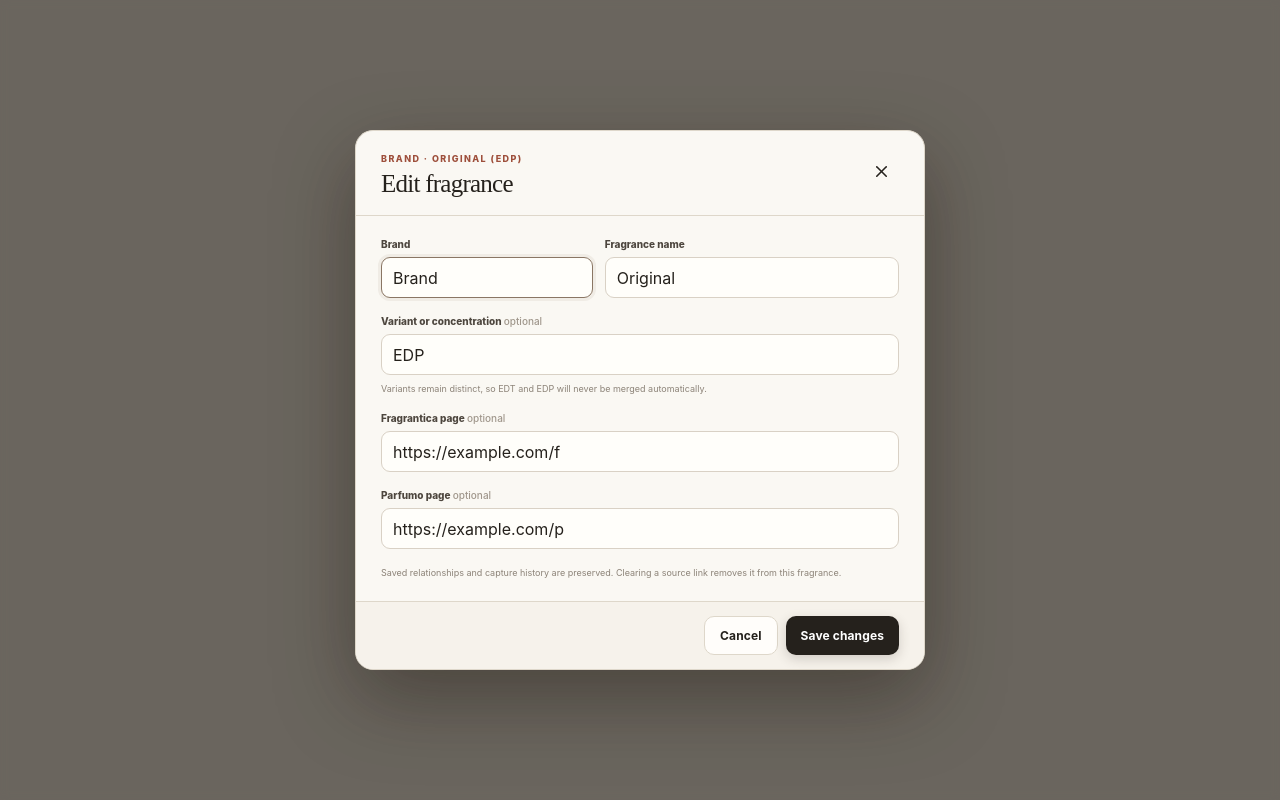
Test: edit fragrance dialog › clears stale conflict actions when details change
Replace the text in the field labelled "Fragrance name" with "Target" at (752, 278), box [605, 257, 899, 298]
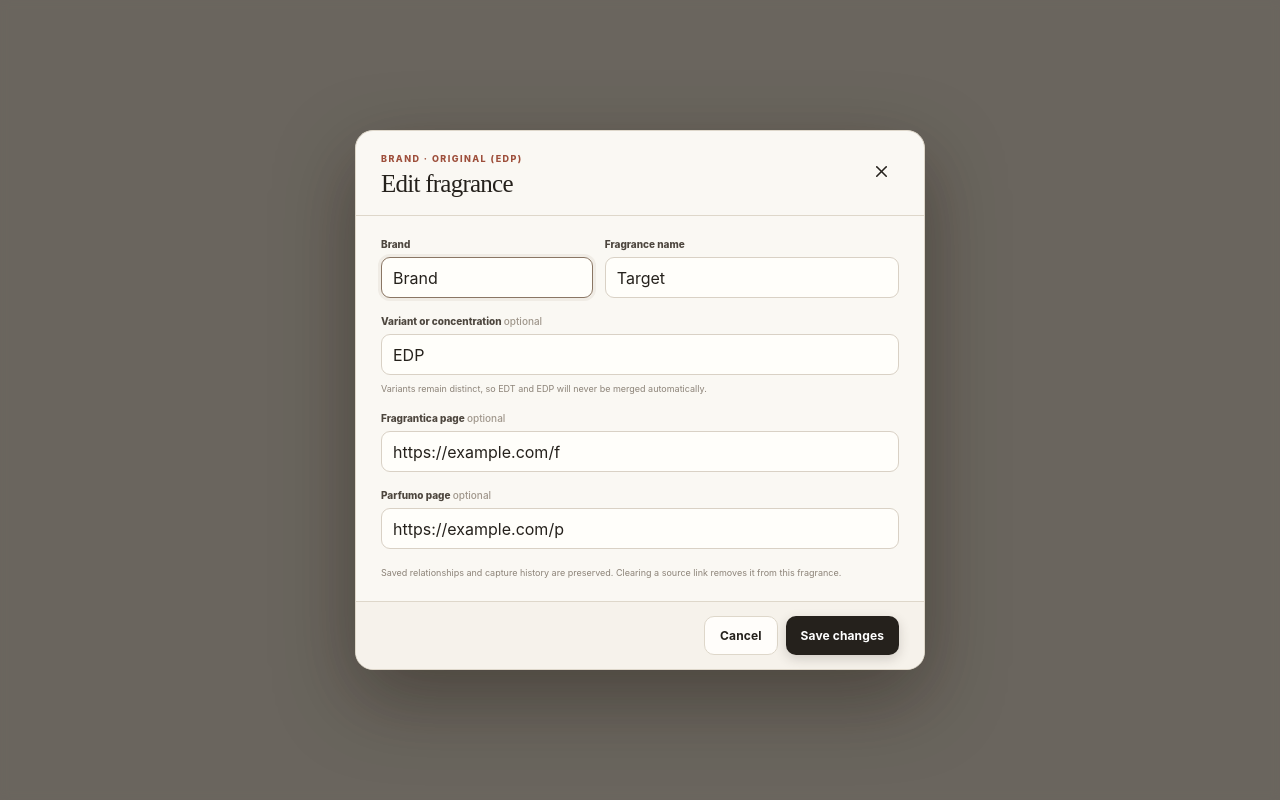
Clear the field labelled "Variant or concentration" at (640, 355), box [381, 334, 899, 375]
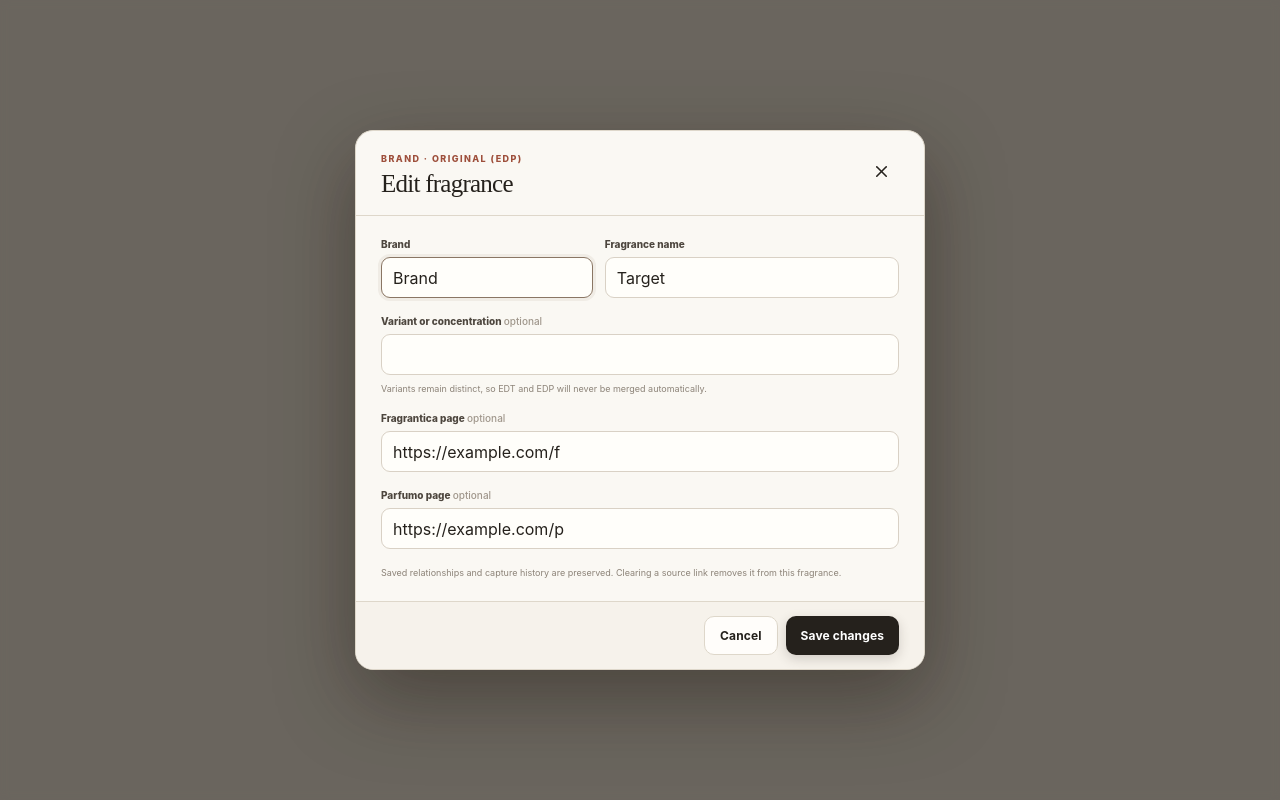
Click the button "Save changes" at (842, 636), box [786, 616, 899, 655]
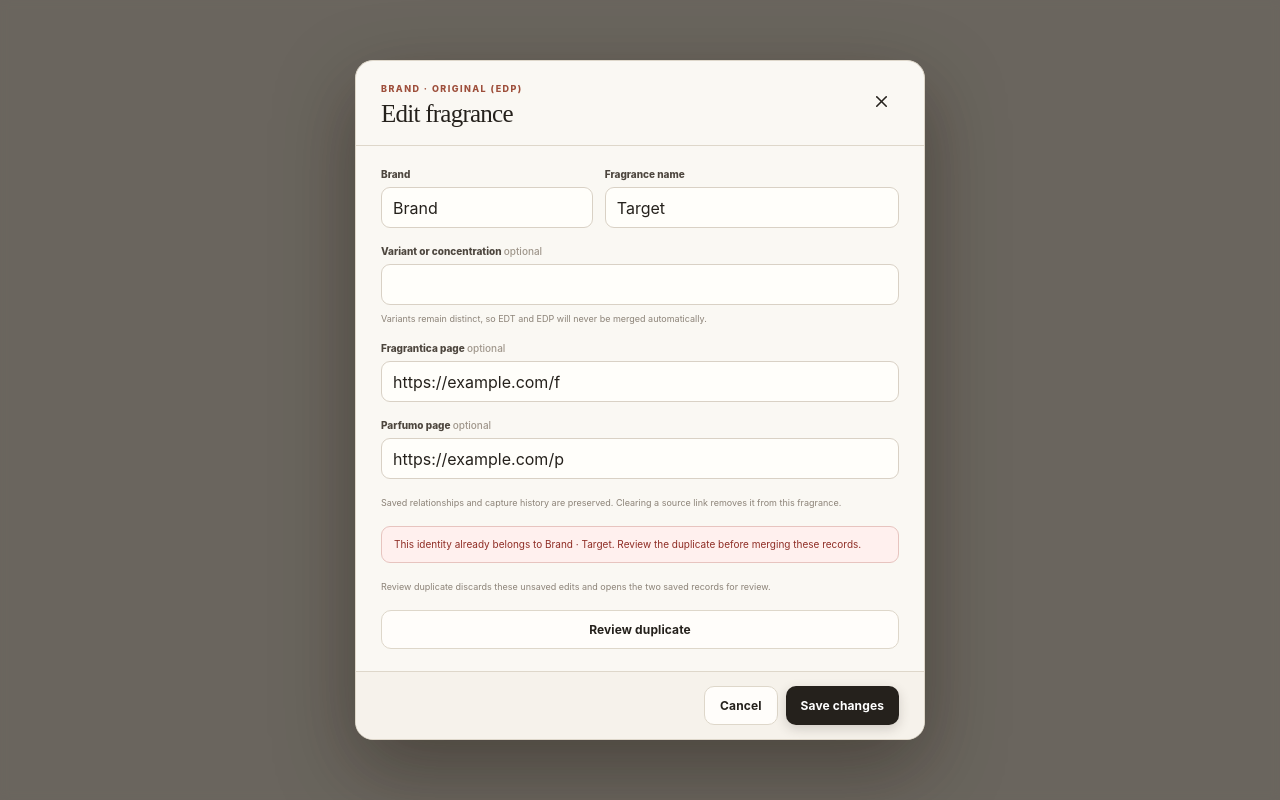
Expected: the button "Review duplicate" is shown, [381, 610, 899, 649]
Replace the text in the field labelled "Fragrance name" with "Distinct" at (752, 208), box [605, 187, 899, 228]
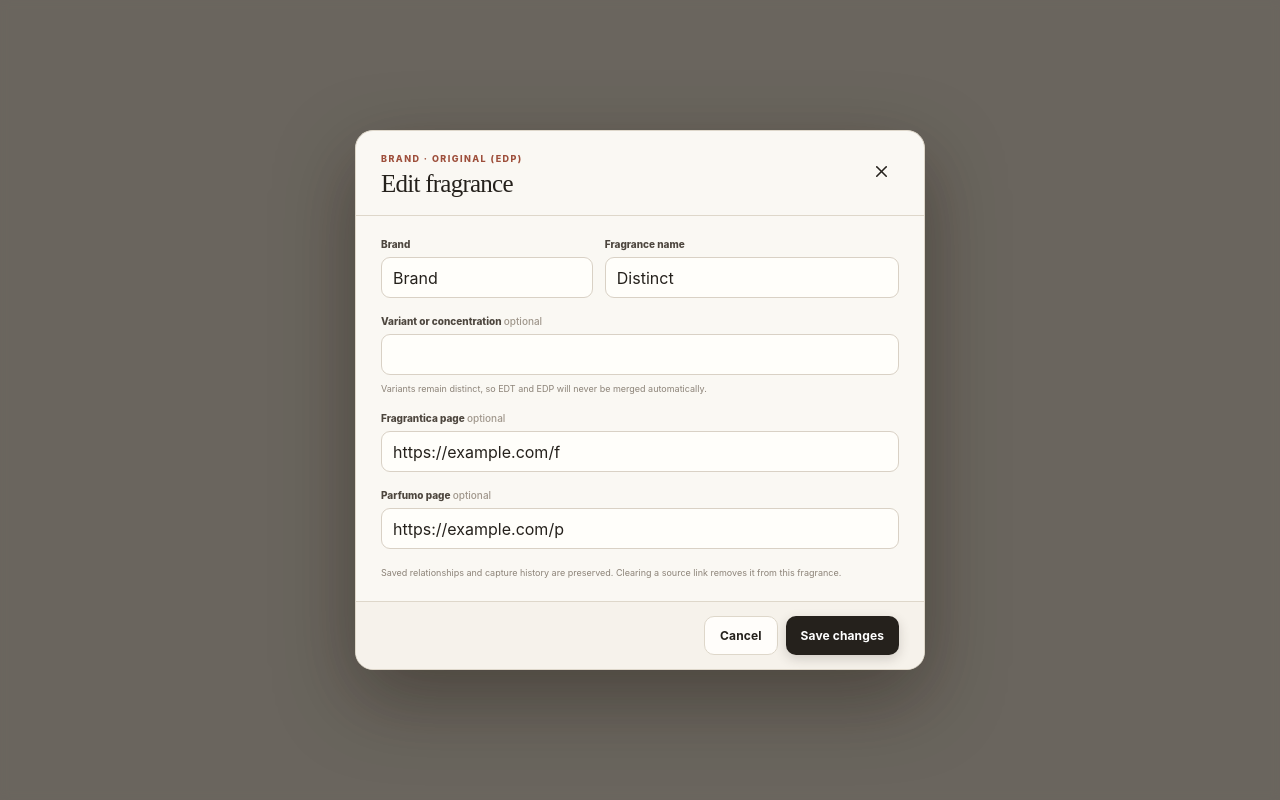
Expected: the text "Review duplicate" is gone
Expected: the message is gone
